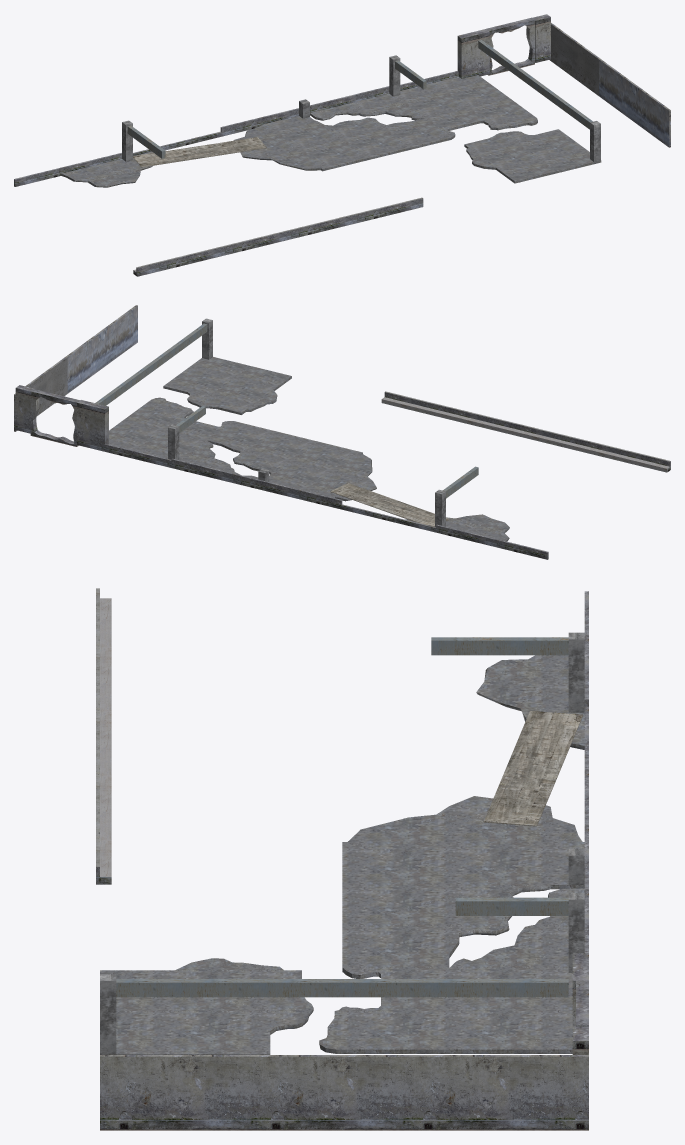
The model's file is Broken_House_05_Part.FBX.
3 renders of one model, top to bottom at view 1: azimuth 30°, elevation 25°; view 2: azimuth 150°, elevation 25°; view 3: azimuth 270°, elevation 25°, orthographic. The views are drawn at different scales.
Visible parts, largest first — view 1: Broken_House_05Floor_F1, Broken_House_05Floor_a, Broken_House_05Floor_F2, Broken_House_05Floor_rig, Broken_House_05Floor_W1, Broken_House_05Floor_F3, Broken_House_05Floor_column; view 2: Broken_House_05Floor_a, Broken_House_05Floor_F1, Broken_House_05Floor_F2, Broken_House_05Floor_rig, Broken_House_05Floor_W1, Broken_House_05Floor_column, Broken_House_05Floor_F3; view 3: Broken_House_05Floor_F1, Broken_House_05Floor_a, Broken_House_05Floor_rig, Broken_House_05Floor_F2, Broken_House_05Floor_W1, Broken_House_05Floor_F3, Broken_House_05Floor_column.
Boxes of the visible parts, x1,y1,x2,y2 form: Broken_House_05Floor_F1: (234, 75, 537, 171); Broken_House_05Floor_a: (14, 14, 670, 276); Broken_House_05Floor_F2: (464, 129, 601, 183); Broken_House_05Floor_rig: (127, 40, 592, 158); Broken_House_05Floor_W1: (133, 137, 266, 167); Broken_House_05Floor_F3: (61, 151, 153, 187); Broken_House_05Floor_column: (122, 55, 600, 161); Broken_House_05Floor_a: (14, 305, 670, 559); Broken_House_05Floor_F1: (109, 397, 376, 501); Broken_House_05Floor_F2: (163, 357, 291, 414); Broken_House_05Floor_rig: (95, 323, 478, 498); Broken_House_05Floor_W1: (330, 483, 449, 526); Broken_House_05Floor_column: (168, 318, 445, 526); Broken_House_05Floor_F3: (405, 514, 509, 541); Broken_House_05Floor_F1: (319, 796, 584, 1053); Broken_House_05Floor_a: (96, 588, 588, 1130); Broken_House_05Floor_rig: (116, 637, 568, 997); Broken_House_05Floor_F2: (100, 958, 313, 1054); Broken_House_05Floor_W1: (483, 711, 583, 826); Broken_House_05Floor_F3: (476, 655, 584, 749); Broken_House_05Floor_column: (100, 632, 584, 1054).
Size of the model in its own units: 2747 by 219 by 1098.
